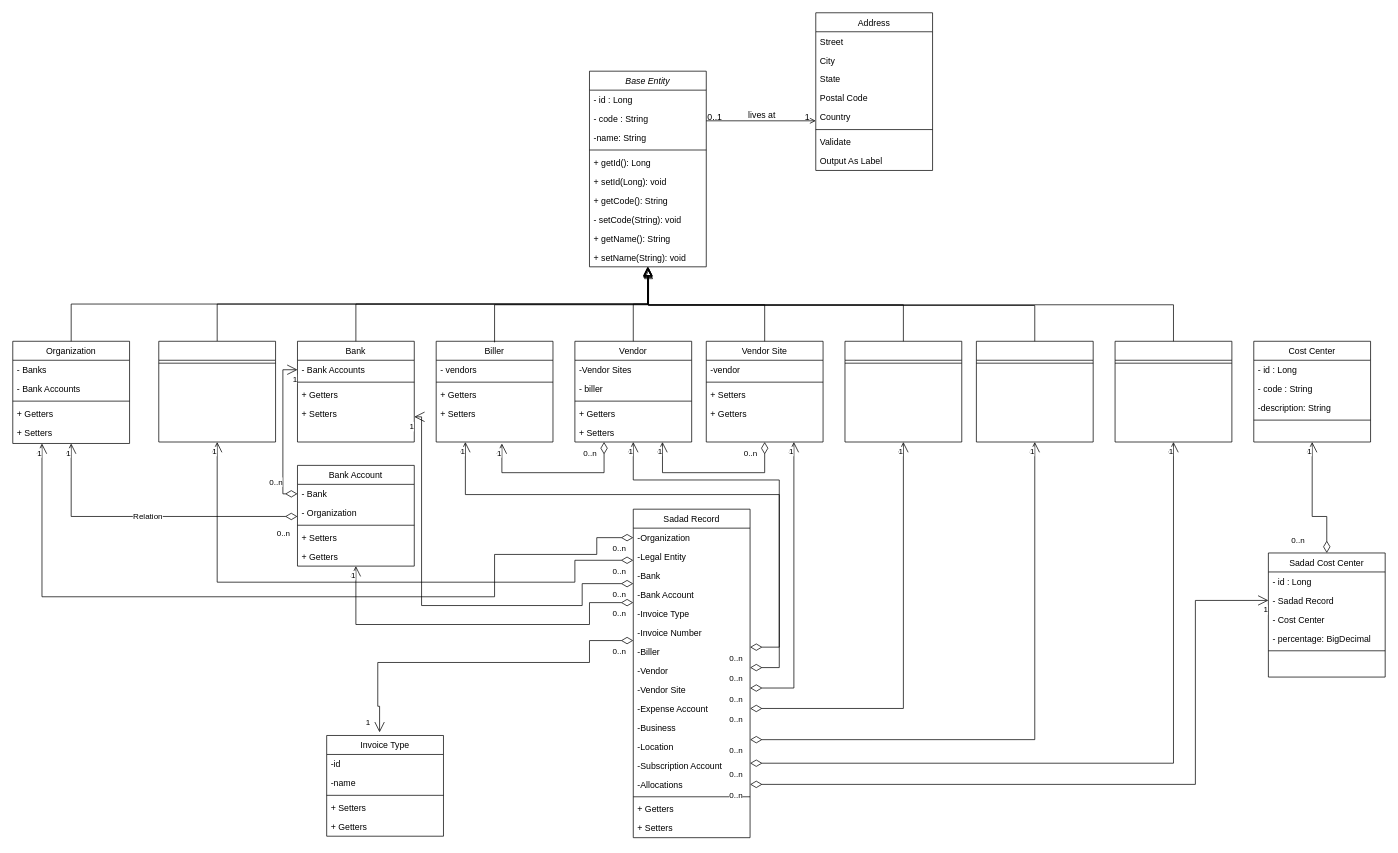
Image size: 1398x853. Some labels were removed from this diagram. Here are the shapes that lost their labels. From the top down, the centre of each, then its label:
At (217,391): "Legal Entity".
At (903,391): "Expense Account".
At (1034,391): "Business".
At (1173,391): "Location".
